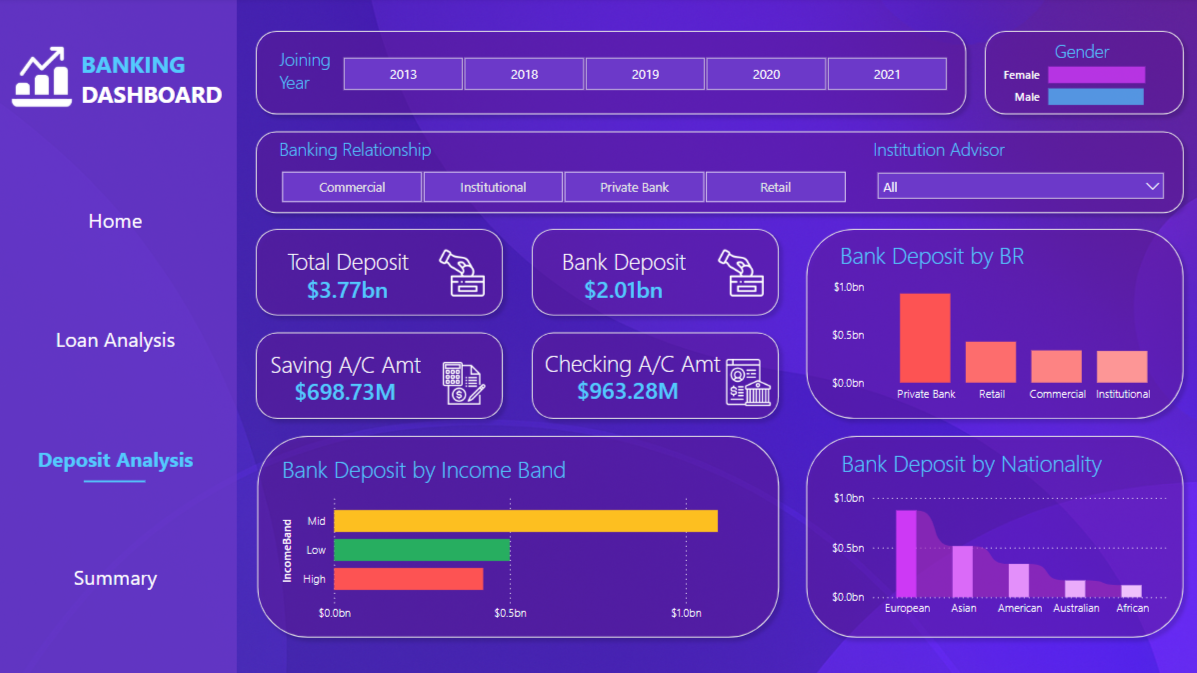

The page's visual inventory and layout, read from the dashboard file:
{"tool":"powerbi","page":{"name":"Deposit Analysis","canvas":[1280,720],"ordinal":2},"visuals":[{"type":"shape","box":[0,0,257.7,720.5],"z":0,"group":"g17"},{"type":"shape","box":[1041.4,27,229,106.6],"z":0,"group":"g7"},{"type":"group","id":"g1","title":"Group 4","box":[279.8,143.1,647,81.1],"z":0,"group":"g21"},{"type":"actionButton","box":[97,222.7,65.2,30.2],"z":0},{"type":"shape","box":[852.6,237.5,418.3,219.5],"z":0,"group":"g11"},{"type":"shape","box":[852.6,456.5,418.3,232.2],"z":0,"group":"g12"},{"type":"shape","box":[268.8,27,771.4,106.6],"z":1000,"group":"g9"},{"type":"image","box":[0,35,104,98.6],"z":1000,"group":"g4"},{"type":"group","id":"g2","title":"Group 10","box":[1047.8,39.9,211.6,44.5],"z":1000,"group":"g7"},{"type":"group","id":"g3","title":"Group 6","box":[926.8,143.1,323.5,79.5],"z":1000,"group":"g21"},{"type":"textbox","box":[0,215.8,257.7,44.5],"z":1000,"group":"g17"},{"type":"textbox","box":[894.6,473.2,330.8,44.5],"z":1000,"group":"g12"},{"type":"actionButton","box":[74.8,601.3,106.6,33.4],"z":1000},{"type":"group","id":"g4","title":"Group 1","box":[0,35,257.7,98.6],"z":2000,"group":"g17"},{"type":"barChart","fields":{"Category":["Banking.GenderId"],"Y":["CountNonNull(Banking.Name)"]},"box":[1064.1,39.7,195.6,101.8],"z":2000,"group":"g7"},{"type":"textbox","box":[87.8,49.3,169.8,84.3],"z":2000,"group":"g4"},{"type":"shape","box":[268.8,133.6,1002.1,105],"z":2000,"group":"g5"},{"type":"shape","box":[269.3,237.7,280,110],"z":2000,"group":"g18"},{"type":"shape","box":[560.9,237.7,280,110],"z":2000,"group":"g16"},{"type":"actionButton","box":[63.6,346.8,130.4,35],"z":2000},{"type":"shape","box":[269.7,347.2,279.9,109.8],"z":2000,"group":"g6"},{"type":"shape","box":[561.1,347.2,279.9,109.8],"z":2000,"group":"g8"},{"type":"group","id":"g5","title":"Group 12","box":[268.8,133.6,1002.1,105],"z":3000},{"type":"group","id":"g6","title":"Group 17","box":[269.2,347.2,280.4,109.8],"z":3000,"group":"g19"},{"type":"shape","box":[269.6,456.5,571,232.2],"z":3000,"group":"g10"},{"type":"textbox","box":[0,468.7,257.7,44],"z":3000,"group":"g13"},{"type":"textbox","box":[0,594.9,257.7,44.5],"z":3000,"group":"g17"},{"type":"group","id":"g7","title":"Group 11","box":[1041.4,27,229,114.5],"z":4000},{"type":"textbox","box":[0,342.5,257.7,44],"z":4000,"group":"g17"},{"type":"group","id":"g8","title":"Group 18","box":[561.1,347.2,279.9,109.8],"z":4000,"group":"g20"},{"type":"group","id":"g9","title":"Group 3","box":[268.8,27,771.4,106.6],"z":5000},{"type":"group","id":"g10","title":"Group 15","box":[269.6,456.5,571,232.2],"z":6000},{"type":"group","id":"g11","title":"Group 16","box":[852.6,237.5,418.3,219.5],"z":7000},{"type":"group","id":"g12","title":"Group 14","box":[852.6,456.5,418.3,232.2],"z":8000},{"type":"group","id":"g13","title":"Group 2","box":[0,468.7,257.7,67.3],"z":8000,"group":"g17"},{"type":"textbox","box":[1047.8,39.9,211.6,44.5],"z":9000,"group":"g2"},{"type":"textbox","box":[297.9,47.7,92.9,66.8],"z":9000,"group":"g9"},{"type":"group","id":"g14","title":"Group 19","box":[269.3,237.7,280,110],"z":9000},{"type":"slicer","fields":{"Values":["Banking.Year of Joining"]},"box":[344.4,56.8,689.6,48.3],"z":10000,"group":"g9"},{"type":"group","id":"g15","title":"Group 20","box":[560.9,237.7,280,110],"z":10000},{"type":"group","id":"g16","title":"Group 9","box":[560.9,237.7,280,110],"z":10000,"group":"g15"},{"type":"group","id":"g17","title":"Group 21","box":[0,0,257.7,720.5],"z":11000},{"type":"textbox","box":[297,143.1,196.2,41.4],"z":11000,"group":"g1"},{"type":"textbox","box":[926.8,143.1,233.6,41.4],"z":12000,"group":"g3"},{"type":"group","id":"g18","title":"Group 8","box":[269.3,237.7,280,110],"z":12000,"group":"g14"},{"type":"group","id":"g19","title":"Group 22","box":[269.2,347.2,280.4,109.8],"z":12000},{"type":"shape","box":[95.4,491.5,65.2,44.5],"z":12000,"group":"g13"},{"type":"barChart","title":"Bank Loan by Income Band","fields":{"Category":["Banking.IncomeBand"],"Y":["Sum(Banking.Bank Deposits)"]},"box":[300.4,519.3,529.7,152.7],"z":12000,"group":"g10"},{"type":"slicer","fields":{"Values":["Banking.BRId"]},"box":[279.8,178.1,647,46.1],"z":13000,"group":"g1"},{"type":"clusteredColumnChart","title":"Bank Loans by BR","fields":{"Category":["Banking.BRId"],"Y":["Sum(Banking.Bank Deposits)"]},"box":[882.8,293.2,375.4,146.3],"z":13000,"group":"g11"},{"type":"group","id":"g20","title":"Group 23","box":[561.1,347.2,279.9,109.8],"z":13000},{"type":"actionButton","box":[63.6,346.8,140,31.8],"z":14000},{"type":"image","box":[466.1,381.7,65.2,55.7],"z":14000,"group":"g19"},{"type":"textbox","box":[300.4,479.6,353.1,50.9],"z":14000,"group":"g10"},{"type":"group","id":"g21","title":"Group 7","box":[279.8,143.1,970.5,81.1],"z":15000,"group":"g5"},{"type":"slicer","fields":{"Values":["Banking.IAId"]},"box":[926.8,176.5,323.5,46.1],"z":15000,"group":"g3"},{"type":"image","box":[769.8,378.6,60.4,60.4],"z":15000,"group":"g20"},{"type":"actionButton","box":[74.8,598.1,106.6,39.8],"z":15000},{"type":"actionButton","box":[97,224.3,65.2,28.6],"z":16000},{"type":"textbox","box":[269.3,258.4,213.1,44.5],"z":16000,"group":"g22"},{"type":"textbox","box":[560.9,258.4,213.1,44.5],"z":16000,"group":"g23"},{"type":"textbox","box":[578.3,366.9,208.4,44.5],"z":16000,"group":"g24"},{"type":"textbox","box":[288,367.5,195.6,44.5],"z":16000,"group":"g6"},{"type":"image","box":[466,262.5,60.4,60.4],"z":19000,"group":"g14"},{"type":"card","fields":{"Values":["Banking.Total Deposit"]},"box":[283.6,285.4,182.9,52.5],"z":19000,"group":"g22"},{"type":"card","fields":{"Values":["Sum(Banking.Bank Deposits)"]},"box":[575.2,285.4,182.9,52.5],"z":19000,"group":"g23"},{"type":"card","fields":{"Values":["Sum(Banking.Saving Accounts)"]},"box":[269.2,391.3,206.8,55.7],"z":19000,"group":"g6"},{"type":"card","fields":{"Values":["Sum(Banking.Checking Accounts)"]},"box":[576.3,392.5,189.3,54.1],"z":19000,"group":"g24"},{"type":"image","box":[761.9,262.5,60.4,60.4],"z":20000,"group":"g15"},{"type":"textbox","box":[893.1,252.6,235.4,42.9],"z":21000,"group":"g11"},{"type":"group","id":"g22","title":"Group 5","box":[269.3,258.4,213.1,79.5],"z":22001,"group":"g18"},{"type":"group","id":"g23","title":"Group 5","box":[560.9,258.4,213.1,79.5],"z":22001,"group":"g16"},{"type":"group","id":"g24","title":"Group 5","box":[576.3,366.9,210.3,79.7],"z":22001,"group":"g25"},{"type":"ribbonChart","title":"Bank Loans by Nation","fields":{"Category":["Banking.Nationality"],"Y":["Sum(Banking.Bank Deposits)"]},"box":[883.5,517.7,365.8,149.5],"z":23000,"group":"g12"},{"type":"group","id":"g25","title":"Group 13","box":[576.3,366.9,210.3,79.7],"z":23007,"group":"g8"}]}

Visuals, with their boxes in screenshot pixels (x1, y1, x2, y2), scaled from the page's 1280x720 canvas onto the 1197x673 screenshot:
shape: Rect(0, 0, 241, 672)
shape: Rect(974, 25, 1188, 125)
"Group 4" group: Rect(262, 134, 867, 210)
actionButton: Rect(91, 208, 152, 236)
shape: Rect(797, 222, 1188, 427)
shape: Rect(797, 427, 1188, 644)
shape: Rect(251, 25, 973, 125)
image: Rect(0, 33, 97, 125)
"Group 10" group: Rect(980, 37, 1178, 79)
"Group 6" group: Rect(867, 134, 1169, 208)
textbox: Rect(0, 202, 241, 243)
textbox: Rect(837, 442, 1146, 484)
actionButton: Rect(70, 562, 170, 593)
"Group 1" group: Rect(0, 33, 241, 125)
barChart - Banking.GenderId x CountNonNull(Banking.Name): Rect(995, 37, 1178, 132)
textbox: Rect(82, 46, 241, 125)
shape: Rect(251, 125, 1188, 223)
shape: Rect(252, 222, 514, 325)
shape: Rect(525, 222, 786, 325)
actionButton: Rect(59, 324, 181, 357)
shape: Rect(252, 325, 514, 427)
shape: Rect(525, 325, 786, 427)
"Group 12" group: Rect(251, 125, 1188, 223)
"Group 17" group: Rect(252, 325, 514, 427)
shape: Rect(252, 427, 786, 644)
textbox: Rect(0, 438, 241, 479)
textbox: Rect(0, 556, 241, 598)
"Group 11" group: Rect(974, 25, 1188, 132)
textbox: Rect(0, 320, 241, 361)
"Group 18" group: Rect(525, 325, 786, 427)
"Group 3" group: Rect(251, 25, 973, 125)
"Group 15" group: Rect(252, 427, 786, 644)
"Group 16" group: Rect(797, 222, 1188, 427)
"Group 14" group: Rect(797, 427, 1188, 644)
"Group 2" group: Rect(0, 438, 241, 501)
textbox: Rect(980, 37, 1178, 79)
textbox: Rect(279, 45, 365, 107)
"Group 19" group: Rect(252, 222, 514, 325)
slicer - Banking.Year of Joining: Rect(322, 53, 967, 98)
"Group 20" group: Rect(525, 222, 786, 325)
"Group 9" group: Rect(525, 222, 786, 325)
"Group 21" group: Rect(0, 0, 241, 672)
textbox: Rect(278, 134, 461, 172)
textbox: Rect(867, 134, 1085, 172)
"Group 8" group: Rect(252, 222, 514, 325)
"Group 22" group: Rect(252, 325, 514, 427)
shape: Rect(89, 459, 150, 501)
"Bank Loan by Income Band" barChart: Rect(281, 485, 776, 628)
slicer - Banking.BRId: Rect(262, 166, 867, 210)
"Bank Loans by BR" clusteredColumnChart: Rect(826, 274, 1177, 411)
"Group 23" group: Rect(525, 325, 786, 427)
actionButton: Rect(59, 324, 190, 354)
image: Rect(436, 357, 497, 409)
textbox: Rect(281, 448, 611, 496)
"Group 7" group: Rect(262, 134, 1169, 210)
slicer - Banking.IAId: Rect(867, 165, 1169, 208)
image: Rect(720, 354, 776, 410)
actionButton: Rect(70, 559, 170, 596)
actionButton: Rect(91, 210, 152, 236)
textbox: Rect(252, 242, 451, 283)
textbox: Rect(525, 242, 724, 283)
textbox: Rect(541, 343, 736, 385)
textbox: Rect(269, 344, 452, 385)
image: Rect(436, 245, 492, 302)
card - Banking.Total Deposit: Rect(265, 267, 436, 316)
card - Sum(Banking.Bank Deposits): Rect(538, 267, 709, 316)
card - Sum(Banking.Saving Accounts): Rect(252, 366, 445, 418)
card - Sum(Banking.Checking Accounts): Rect(539, 367, 716, 417)
image: Rect(712, 245, 769, 302)
textbox: Rect(835, 236, 1055, 276)
"Group 5" group: Rect(252, 242, 451, 316)
"Group 5" group: Rect(525, 242, 724, 316)
"Group 5" group: Rect(539, 343, 736, 417)
"Bank Loans by Nation" ribbonChart: Rect(826, 484, 1168, 624)
"Group 13" group: Rect(539, 343, 736, 417)
